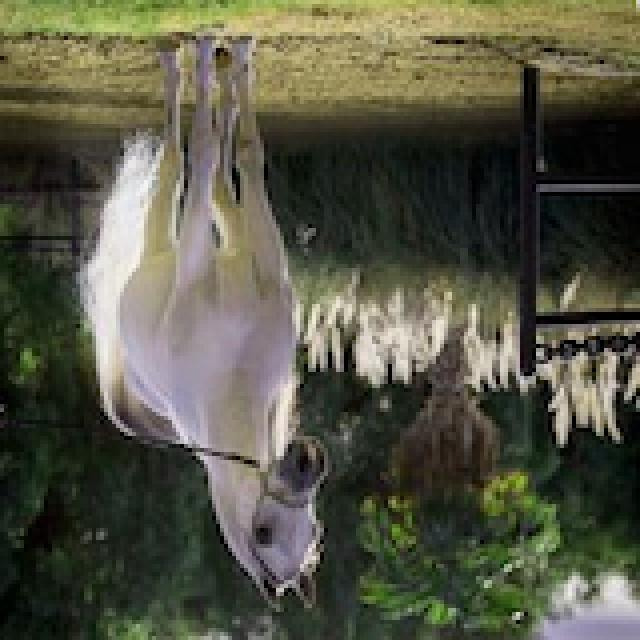Horse: (76, 32, 336, 612)
